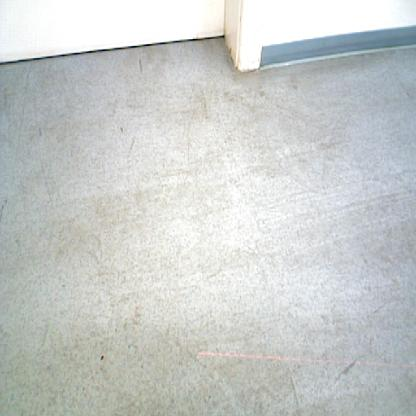mark: (334, 357, 359, 382), (289, 375, 299, 404), (0, 198, 8, 223), (129, 136, 136, 152), (139, 58, 144, 75), (38, 126, 44, 138), (100, 354, 106, 362), (120, 126, 124, 135)
